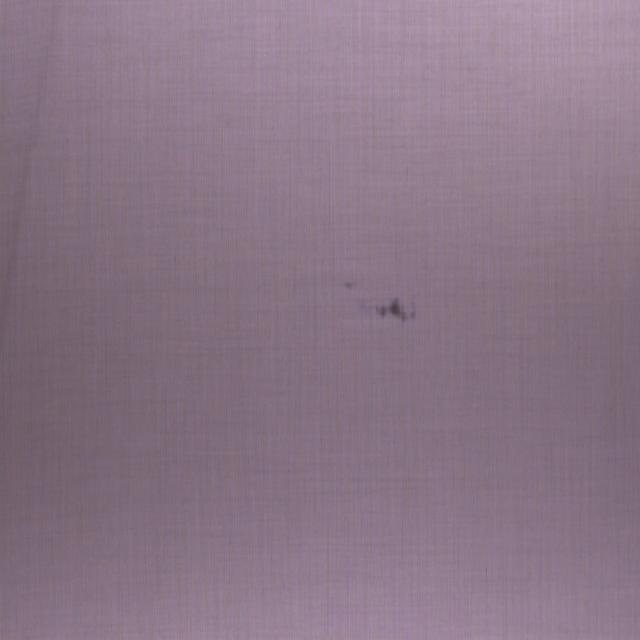dirty: (377, 294, 416, 324)
